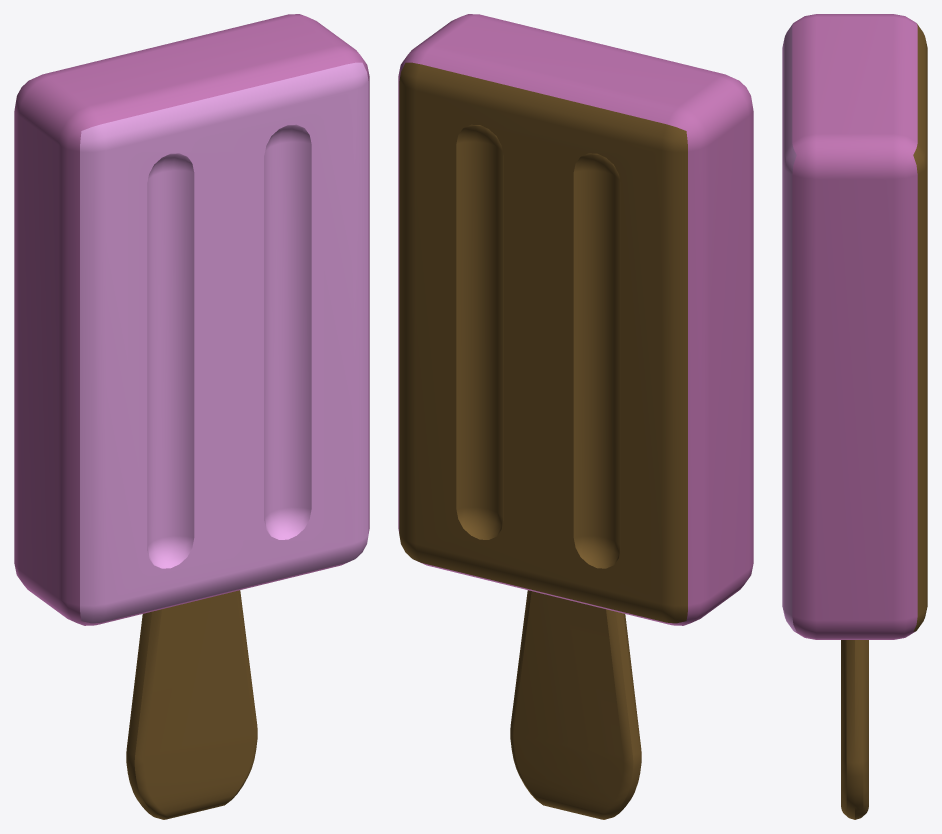
Rendered from IceCream.fbx.
The picture shows the model from 3 angles, left to right: view 1: azimuth 30°, elevation 25°; view 2: azimuth 150°, elevation 25°; view 3: azimuth 270°, elevation 25°; orthographic projection. The views are drawn at different scales.
Parts seen in each view (by area): view 1: lop13, lop12, popstick; view 2: lop11, lop12, popstick; view 3: lop12, lop11, lop13, popstick.
Part boxes in pixels (x1=…): lop13: x1=80, y1=62, x2=368, y2=623; lop12: x1=14, y1=14, x2=369, y2=625; popstick: x1=126, y1=590, x2=257, y2=819; lop11: x1=399, y1=62, x2=687, y2=623; lop12: x1=398, y1=14, x2=753, y2=625; popstick: x1=510, y1=590, x2=641, y2=819; lop12: x1=792, y1=14, x2=917, y2=639; lop11: x1=913, y1=24, x2=927, y2=631; lop13: x1=782, y1=24, x2=796, y2=631; popstick: x1=841, y1=640, x2=868, y2=819.
Size of the model in its own units: 69.63 by 163 by 29.4.
